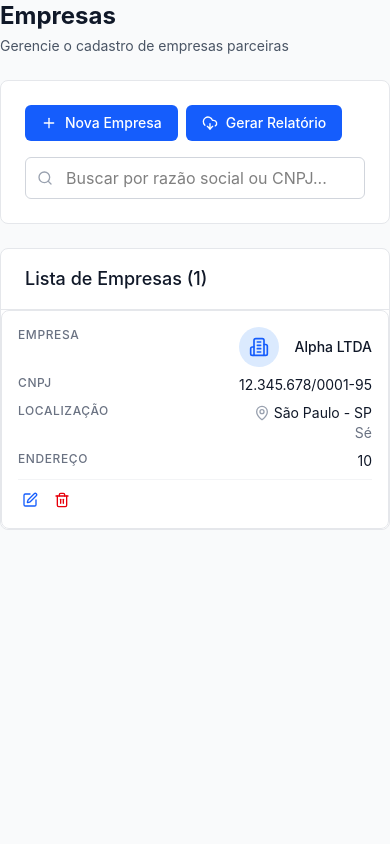
it: Companies page › opens new company modal
Step 1. Click the button "Nova Empresa" → (101, 123), box top-left (25, 105), bottom-right (178, 141)
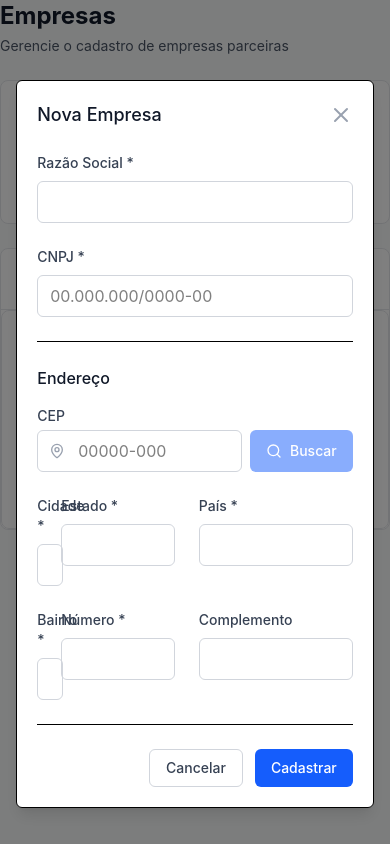
Expected: the heading "Nova Empresa" is shown, top-left (37, 101), bottom-right (162, 129)
